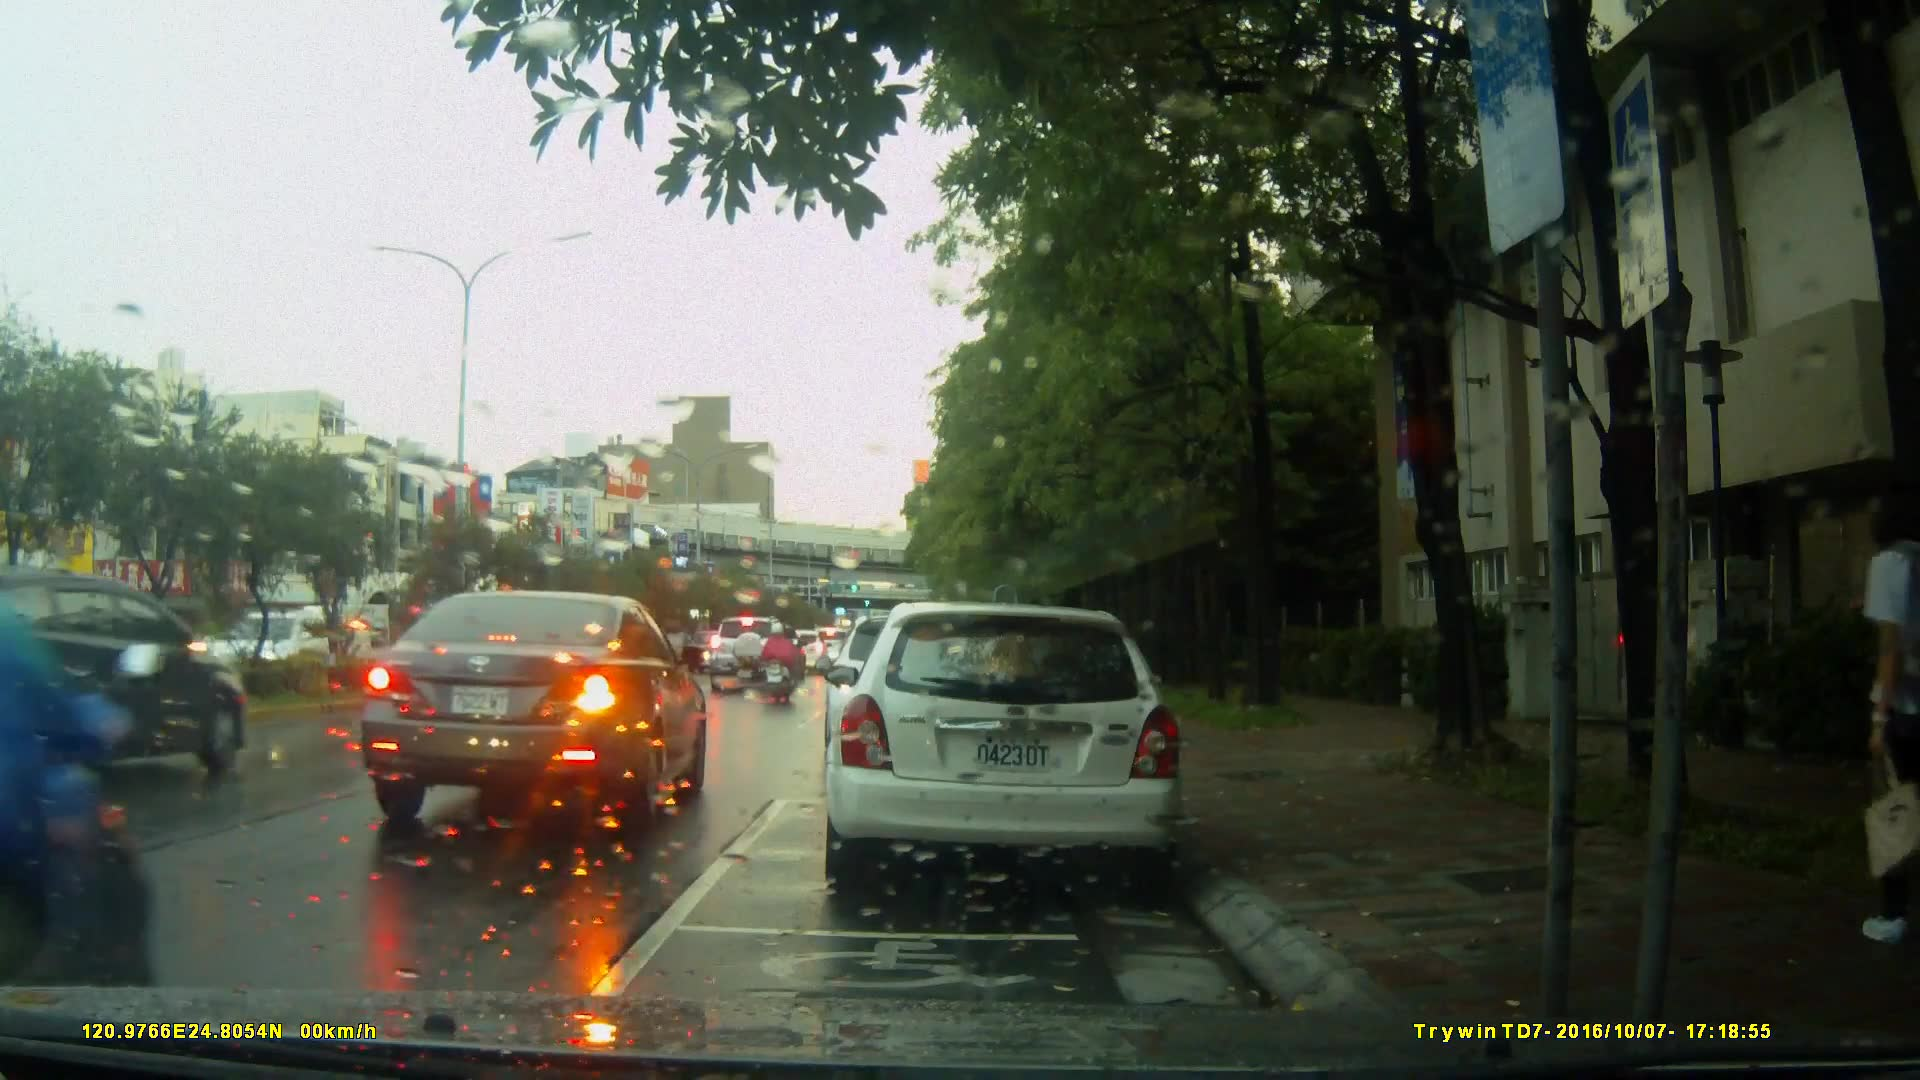pedestrian: (1826, 495, 1920, 950)
rider: (1, 449, 166, 1066), (759, 621, 799, 713)
vehicle: (820, 602, 1188, 898), (355, 588, 712, 836), (1, 570, 255, 794), (710, 616, 799, 694)
